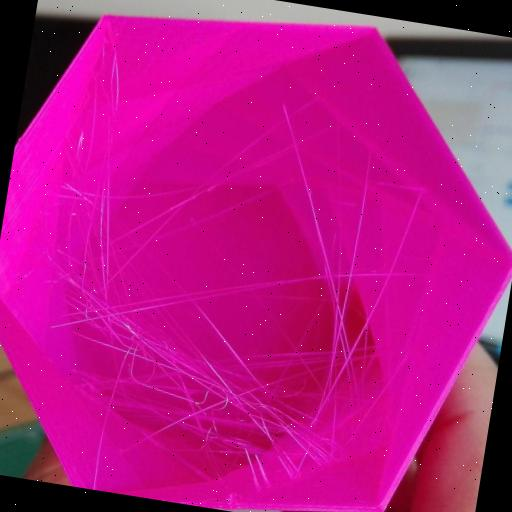stringing: (52, 274, 325, 479), (293, 139, 433, 421), (273, 96, 341, 286), (46, 195, 122, 296)
